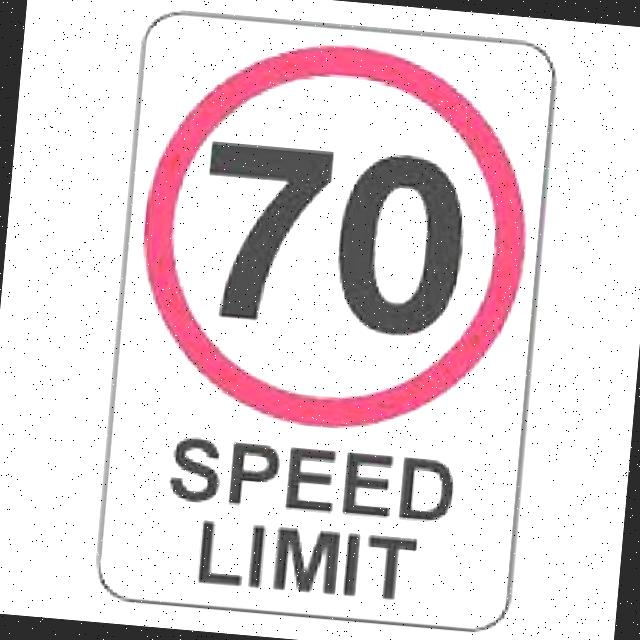Ograniczenie predkosci do 70: (134, 38, 532, 426)
